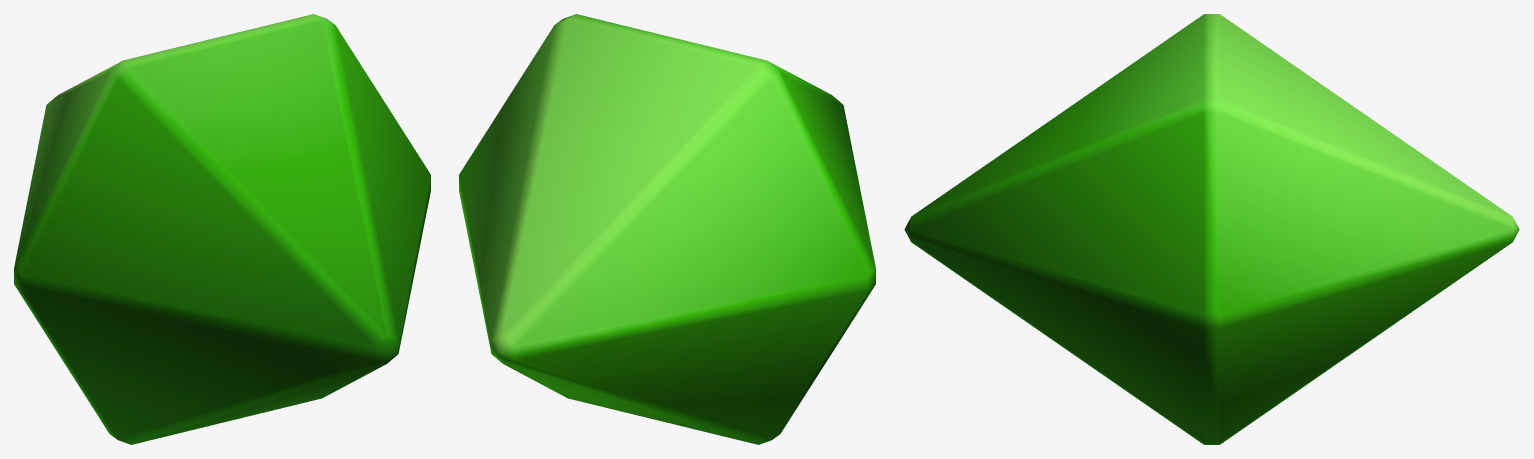
Rendered from Diamond1.FBX.
3 renders of one model, left to right at view 1: azimuth 30°, elevation 25°; view 2: azimuth 150°, elevation 25°; view 3: azimuth 270°, elevation 25°, orthographic. The views are drawn at different scales.
Parts seen in each view (by area): view 1: Diamond1; view 2: Diamond1; view 3: Diamond1.
Boxes of the visible parts, x1,y1,x2,y2 form: Diamond1: [14, 14, 430, 444]; Diamond1: [459, 14, 875, 444]; Diamond1: [904, 14, 1519, 444].
Bounding box in the file's own units: 29.03 × 25.69 × 41.42.
Materials: 1 (1 with a texture image).
